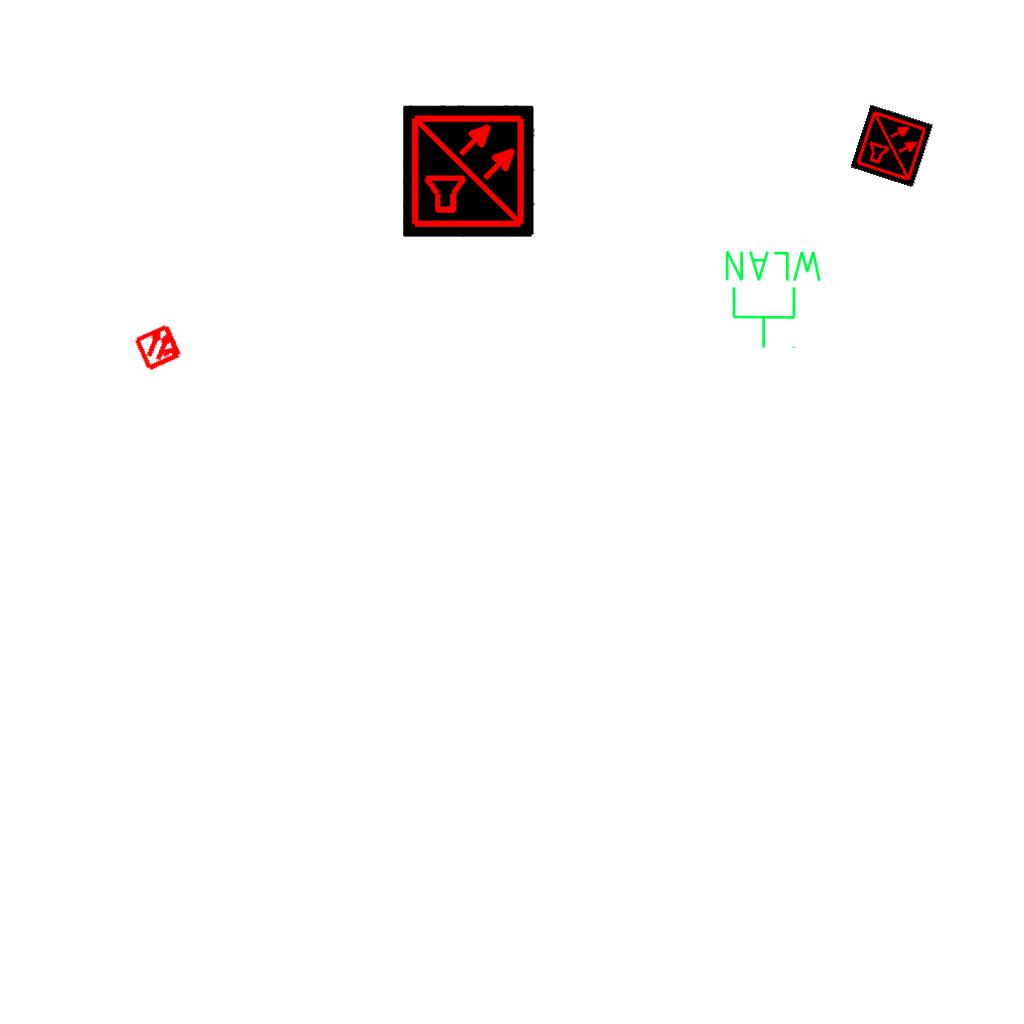OKW_Multisensormelder_(Kombination_optischer_Rauch-Kahlenmonoxid_Waerme-Melder): (403, 105, 535, 237), (850, 104, 934, 188)
OT_Multisensormelder_(Kombination_RMO_WMD): (122, 310, 196, 384)
WLAN: (721, 247, 826, 351)
